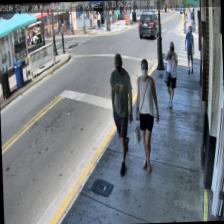person: (108, 52, 134, 176), (132, 58, 160, 172), (163, 41, 178, 106), (184, 25, 194, 74)
